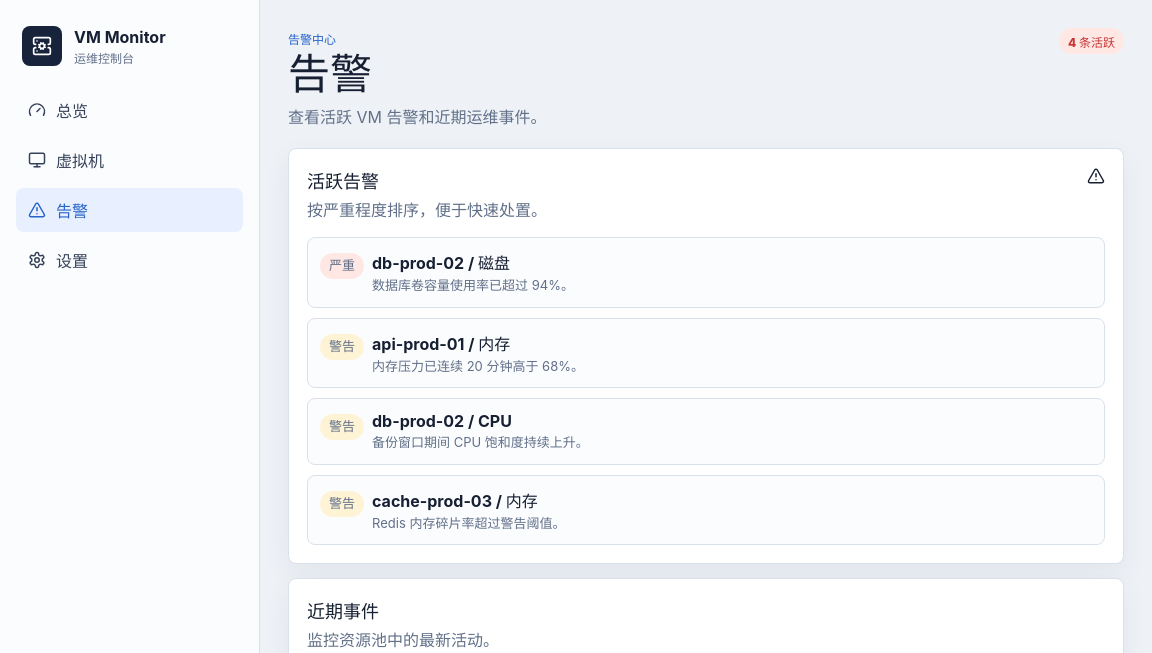
Test: App navigation alignment › returns from VM detail to the originating alerts page
Step 1. Click the link "严重 db-prod-02 / 磁盘 数据库卷容量使用率已超过 94%。" → (342, 266), box [307,237,1105,308]
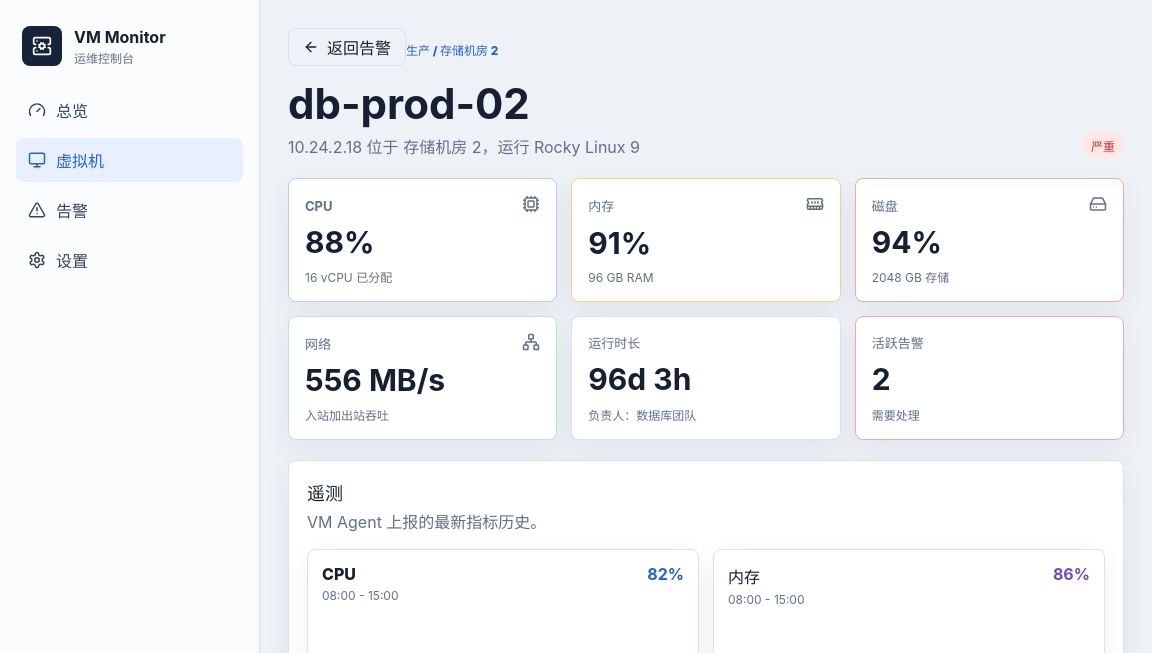
Check: the heading "db-prod-02" is shown, box [288,78,530,129]
Step 2. Click the button "返回告警" → (347, 47), box [288,28,406,66]
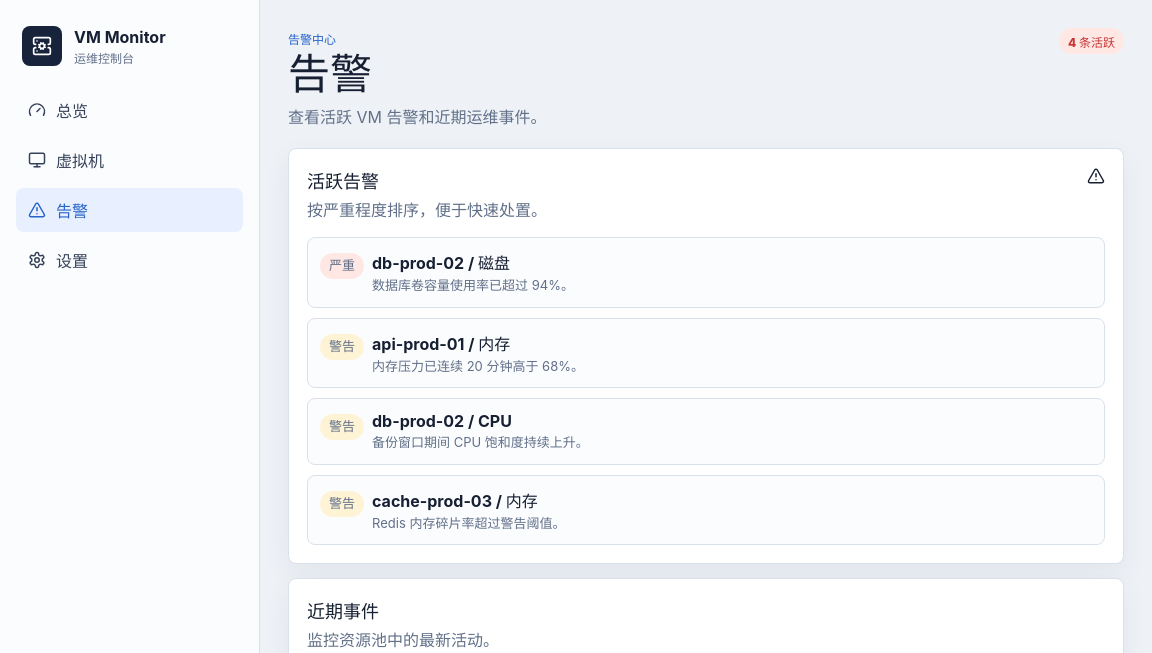
Check: the heading "告警" is shown, box [288,48,372,99]
Check: the text "查看活跃 VM 告警和近期运维事件。" is shown, box [288,104,546,128]
